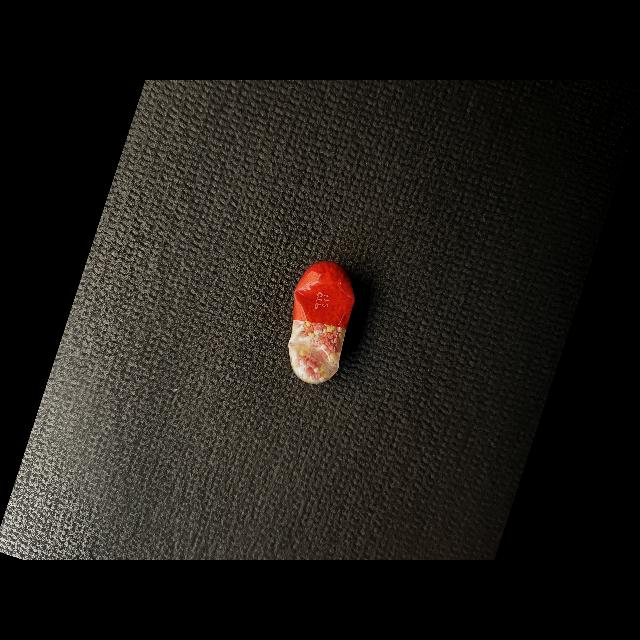Defective Capsule: (288, 261, 355, 384)
